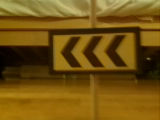left: (49, 31, 140, 73)
